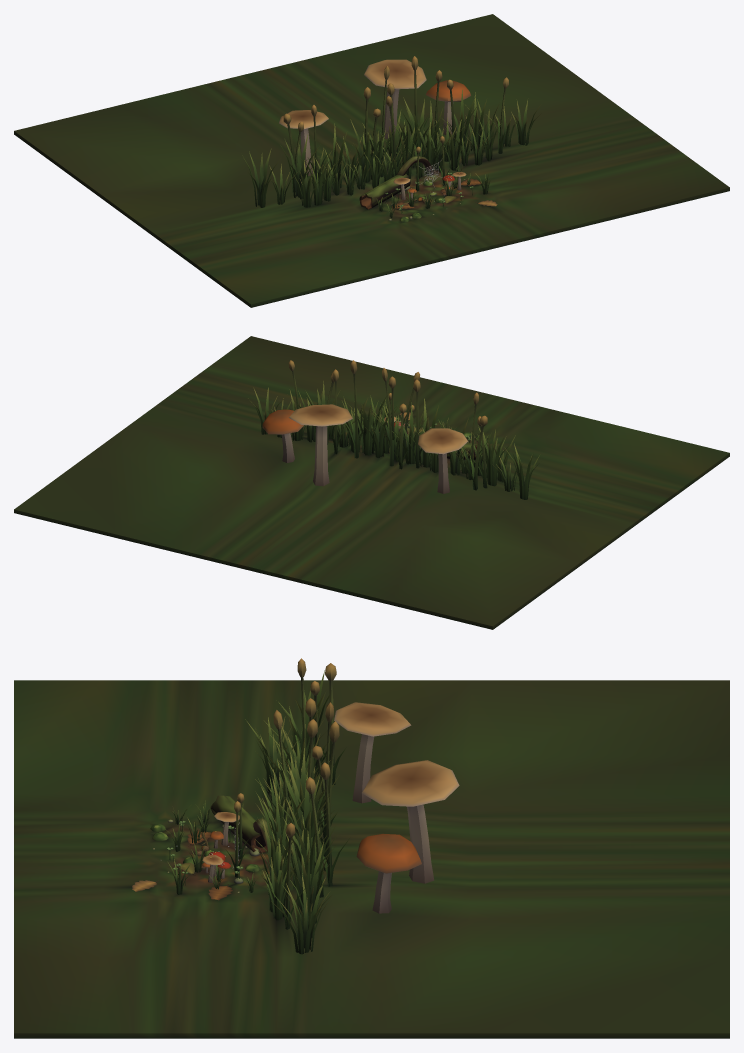
The model's file is main_menu.fbx.
The picture shows the model from 3 angles, top to bottom: view 1: azimuth 30°, elevation 25°; view 2: azimuth 150°, elevation 25°; view 3: azimuth 270°, elevation 25°; orthographic projection. The views are drawn at different scales.
Parts seen in each view (by area): view 1: COL_Ground, DECO_GrassStalks, DECO_GiantMushroomFlat_02, DECO_GiantMushroomFlat_01, DECO_GiantMushroomDome_01, DECO_GrassTall_20, DECO_GrassTall_18, DECO_GrassTall_24, DECO_GrassTall_31, DECO_GrassTall_28, DECO_GrassTall_22; view 2: COL_Ground, DECO_GrassStalks, DECO_GiantMushroomFlat_02, DECO_GiantMushroomFlat_01, DECO_GiantMushroomDome_01, DECO_GrassTall_28, DECO_GrassTall_20, DECO_GrassTall_27, DECO_GrassTall_18, DECO_GrassTall_25; view 3: COL_Ground, DECO_GrassStalks, DECO_GiantMushroomFlat_02, DECO_GiantMushroomFlat_01, DECO_GiantMushroomDome_01, DECO_GrassTall_35, DECO_GrassTall_28, DECO_GrassTall_33, COL_Log_03, DECO_GrassTall_31, DECO_GrassTall_32, DECO_GrassTall_17.
Part boxes in pixels (box(x1,y1,x2,y2)): COL_Ground: box(14, 14, 729, 307); DECO_GrassStalks: box(283, 56, 508, 192); DECO_GiantMushroomFlat_02: box(364, 59, 426, 138); DECO_GiantMushroomFlat_01: box(279, 110, 328, 175); DECO_GiantMushroomDome_01: box(425, 80, 470, 134); DECO_GrassTall_20: box(280, 134, 319, 199); DECO_GrassTall_18: box(242, 148, 279, 207); DECO_GrassTall_24: box(350, 119, 389, 182); DECO_GrassTall_31: box(441, 89, 478, 152); DECO_GrassTall_28: box(403, 97, 443, 164); DECO_GrassTall_22: box(318, 123, 350, 188); COL_Ground: box(14, 336, 729, 629); DECO_GrassStalks: box(288, 360, 487, 490); DECO_GiantMushroomFlat_02: box(289, 404, 352, 486); DECO_GiantMushroomFlat_01: box(418, 428, 468, 493); DECO_GiantMushroomDome_01: box(262, 409, 303, 462); DECO_GrassTall_28: box(347, 392, 388, 455); DECO_GrassTall_20: box(472, 427, 510, 486); DECO_GrassTall_27: box(365, 395, 398, 457); DECO_GrassTall_18: box(505, 443, 539, 499); DECO_GrassTall_25: box(392, 402, 426, 464); COL_Ground: box(14, 680, 729, 1038); DECO_GrassStalks: box(269, 658, 349, 929); DECO_GiantMushroomFlat_02: box(362, 760, 459, 883); DECO_GiantMushroomFlat_01: box(334, 702, 411, 803); DECO_GiantMushroomDome_01: box(356, 833, 421, 913); DECO_GrassTall_35: box(271, 883, 330, 954); DECO_GrassTall_28: box(275, 767, 339, 843); DECO_GrassTall_33: box(290, 842, 329, 923); COL_Log_03: box(210, 795, 260, 845); DECO_GrassTall_31: box(283, 818, 336, 889); DECO_GrassTall_32: box(285, 833, 336, 913); DECO_GrassTall_17: box(260, 861, 297, 920).
Size of the model in its own units: 84000 by 18387 by 72000.
